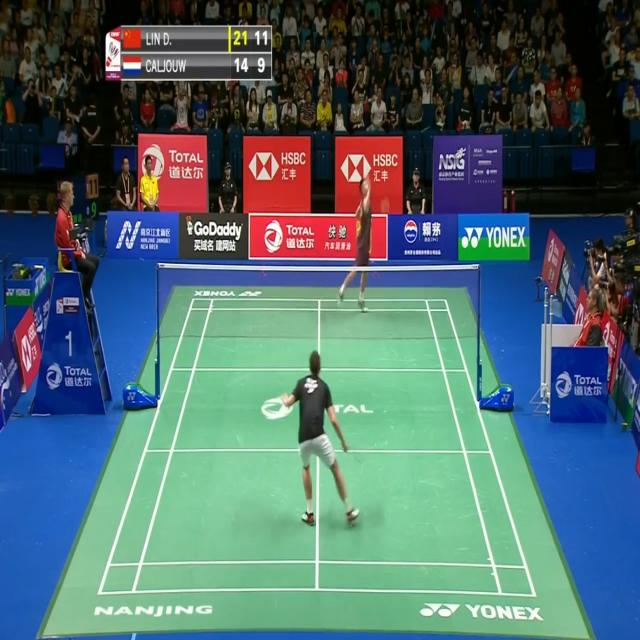Player1: (282, 344, 363, 532)
Player2: (334, 174, 376, 318)
